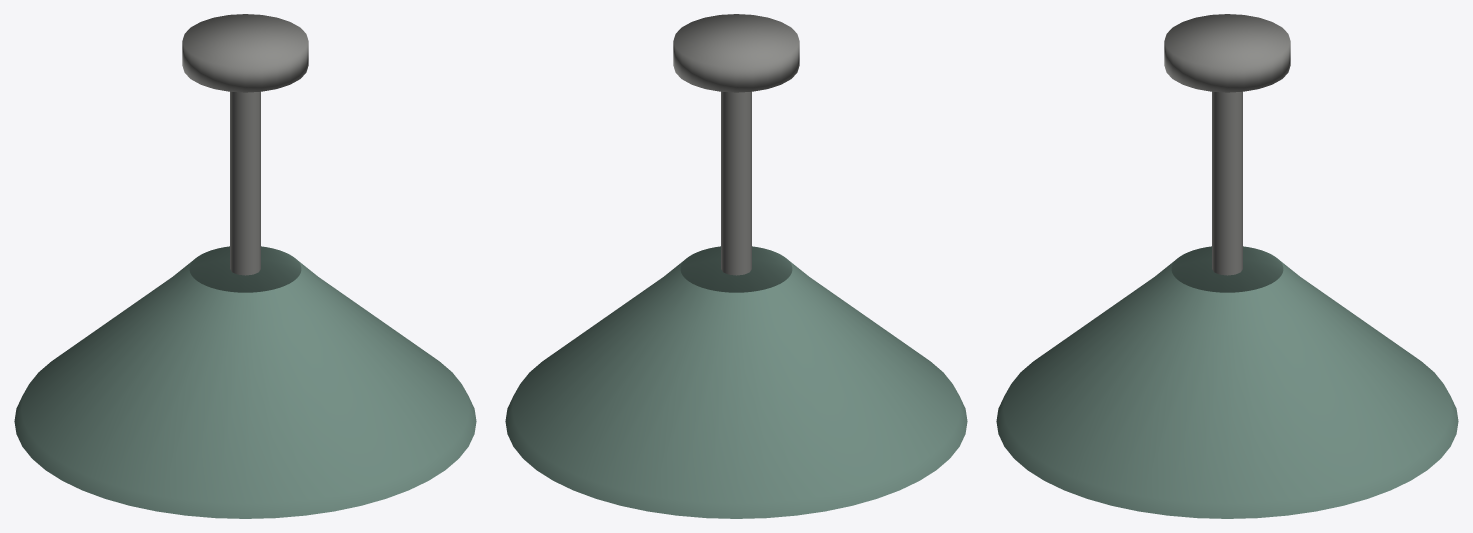
The model's file is service-lamp.glb.
3 renders of one model, left to right at view 1: azimuth 30°, elevation 25°; view 2: azimuth 150°, elevation 25°; view 3: azimuth 270°, elevation 25°, orthographic.
Visible parts, largest first — view 1: shade, canopy, rod; view 2: shade, canopy, rod; view 3: shade, canopy, rod.
Part boxes in pixels (box(x1,y1,x2,y2)): shade: box(14, 246, 476, 518); canopy: box(182, 14, 308, 92); rod: box(230, 91, 260, 275); shade: box(505, 246, 967, 518); canopy: box(673, 14, 799, 92); rod: box(721, 91, 751, 275); shade: box(996, 246, 1458, 518); canopy: box(1164, 14, 1290, 92); rod: box(1212, 91, 1242, 275).
Size of the model in its own units: 0.33 by 0.325 by 0.33.
